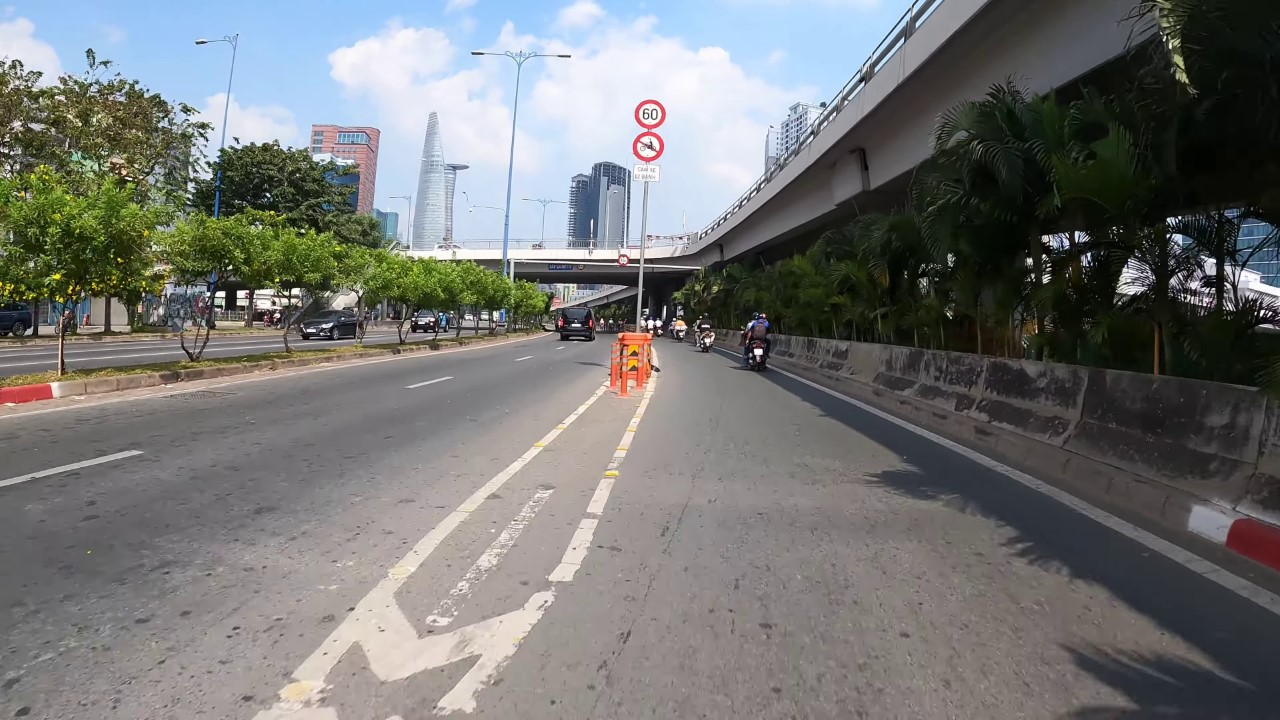gioi_han_60km: (633, 96, 667, 131)
